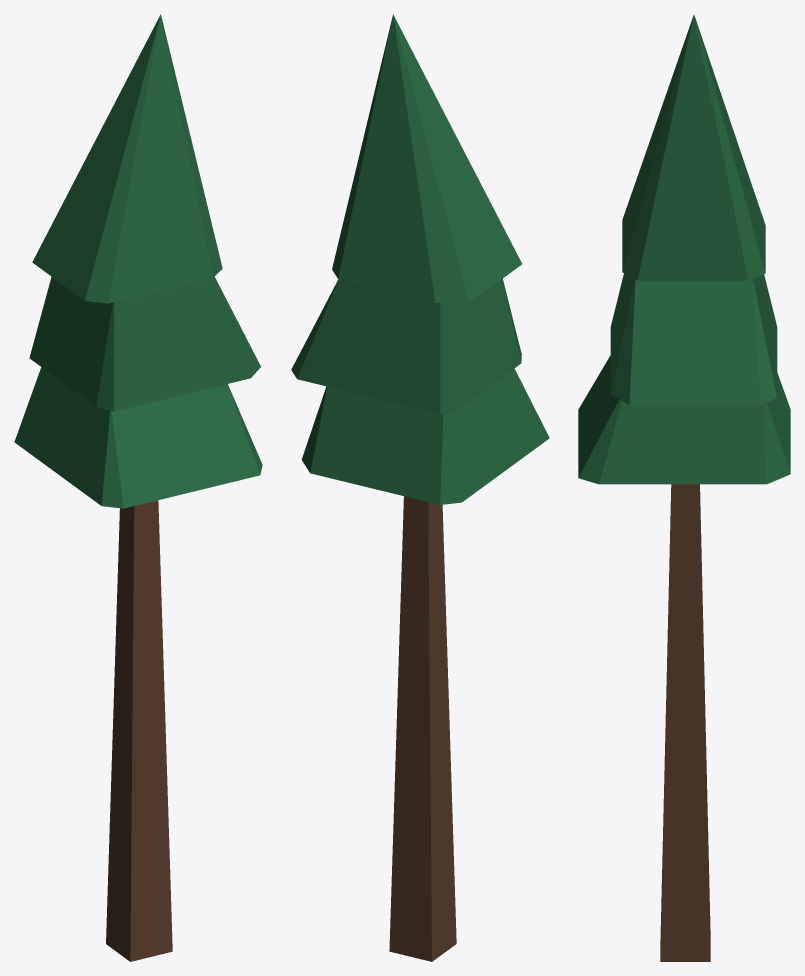
The model's file is tree_pineTallB.glb.
3 renders of one model, left to right at view 1: azimuth 30°, elevation 25°; view 2: azimuth 150°, elevation 25°; view 3: azimuth 270°, elevation 25°, orthographic. The views are drawn at different scales.
Visible parts, largest first — view 1: tree_pineTallB; view 2: tree_pineTallB; view 3: tree_pineTallB.
Part boxes in pixels (left/top/right/bottom): tree_pineTallB: left=14, top=14, right=262, bottom=961; tree_pineTallB: left=291, top=14, right=549, bottom=961; tree_pineTallB: left=578, top=14, right=790, bottom=961.
Bounding box in the file's own units: 0.3863 × 1.93 × 0.392.
